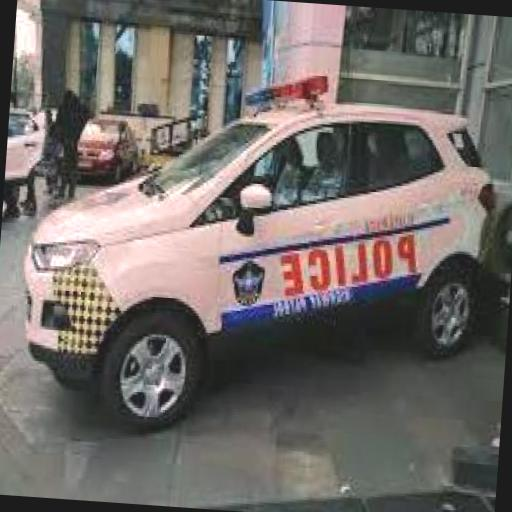Ambulance: (12, 60, 496, 450)
